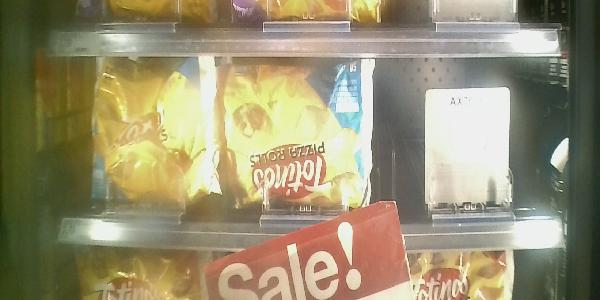icecream: (225, 59, 366, 213), (90, 59, 223, 214)
